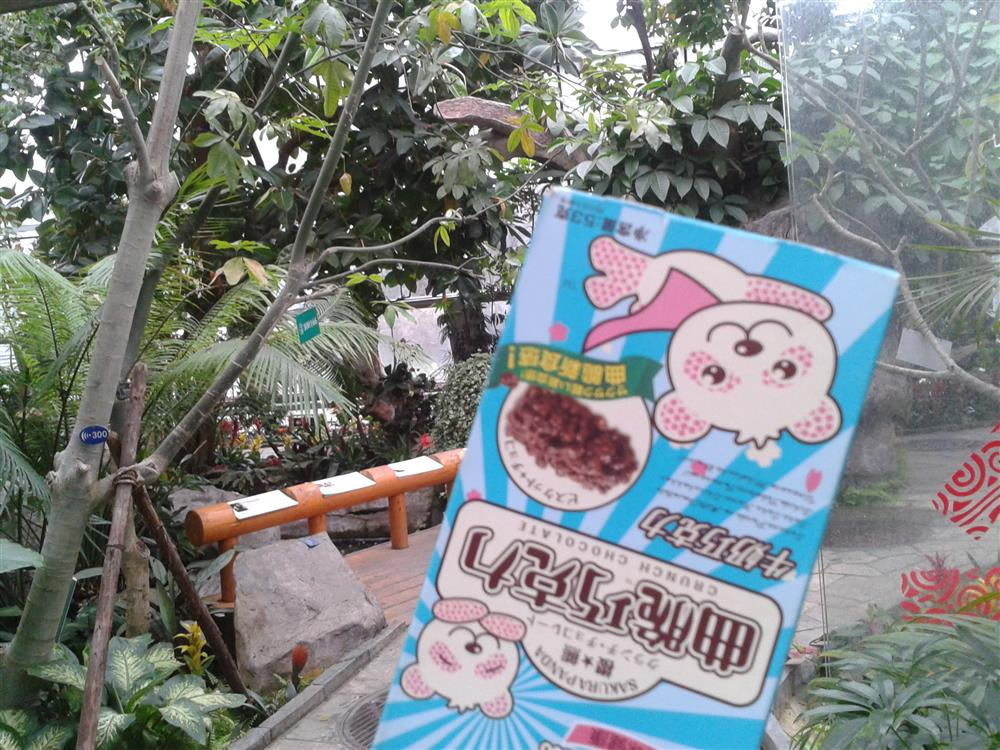crunch: (348, 166, 897, 736)
